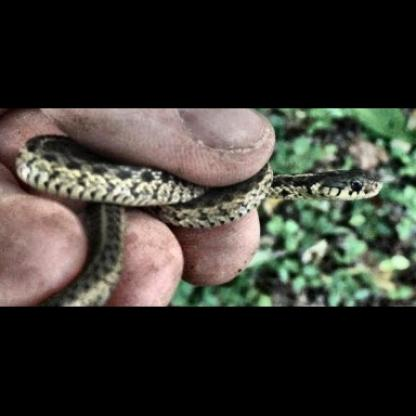Snake: (9, 129, 387, 308)
